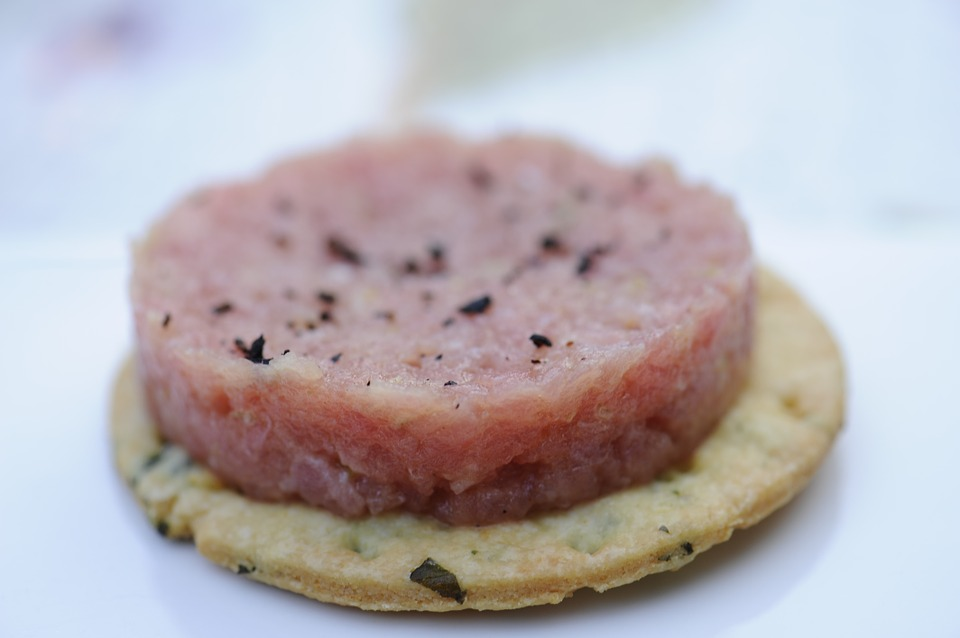ground_beef: (128, 96, 719, 493)
